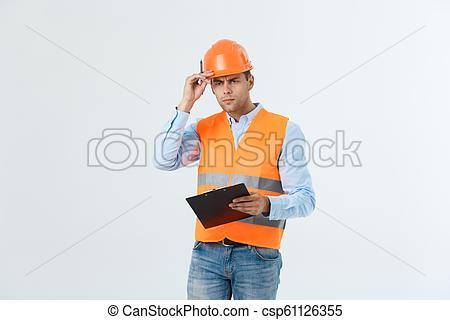helmet: (203, 39, 255, 78)
